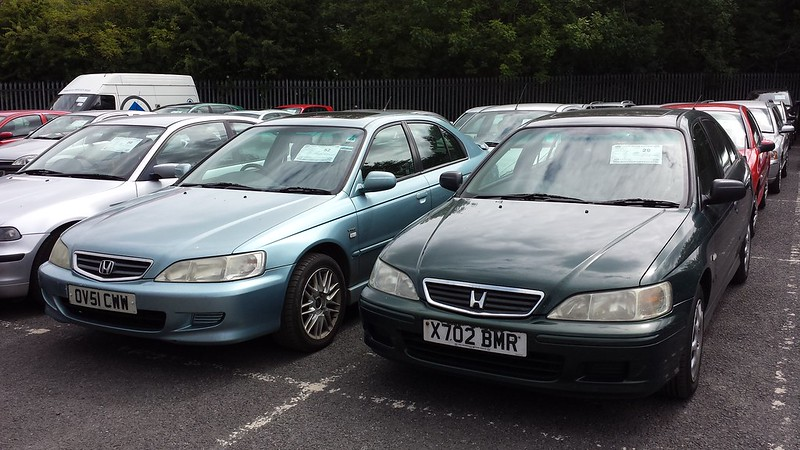number_plate: (420, 316, 531, 356), (60, 284, 147, 318)
